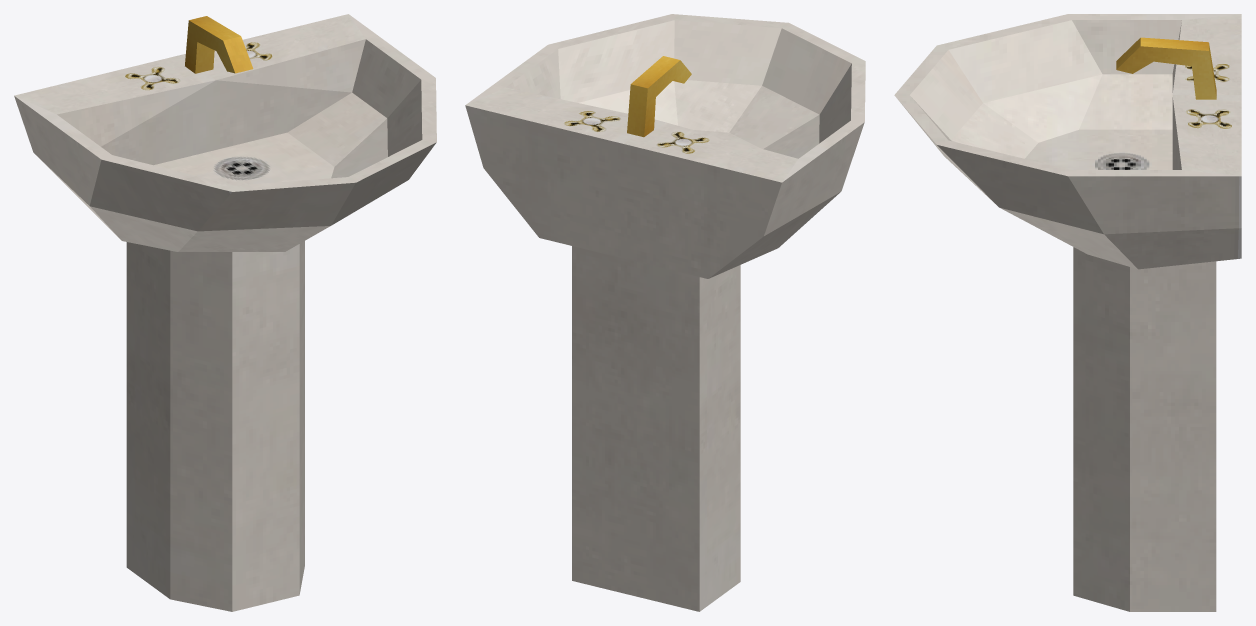
Rendered from sink.glb.
3 renders of one model, left to right at view 1: azimuth 30°, elevation 25°; view 2: azimuth 150°, elevation 25°; view 3: azimuth 270°, elevation 25°, orthographic. The views are drawn at different scales.
Parts seen in each view (by area): view 1: sink; view 2: sink; view 3: sink.
Part boxes in pixels (x1,y1,x2,y2): sink: (14, 14, 436, 611); sink: (465, 14, 865, 611); sink: (894, 14, 1241, 611).
Size of the model in its own units: 0.7341 by 1.13 by 0.6641.
Materials: 1 (1 with a texture image).
